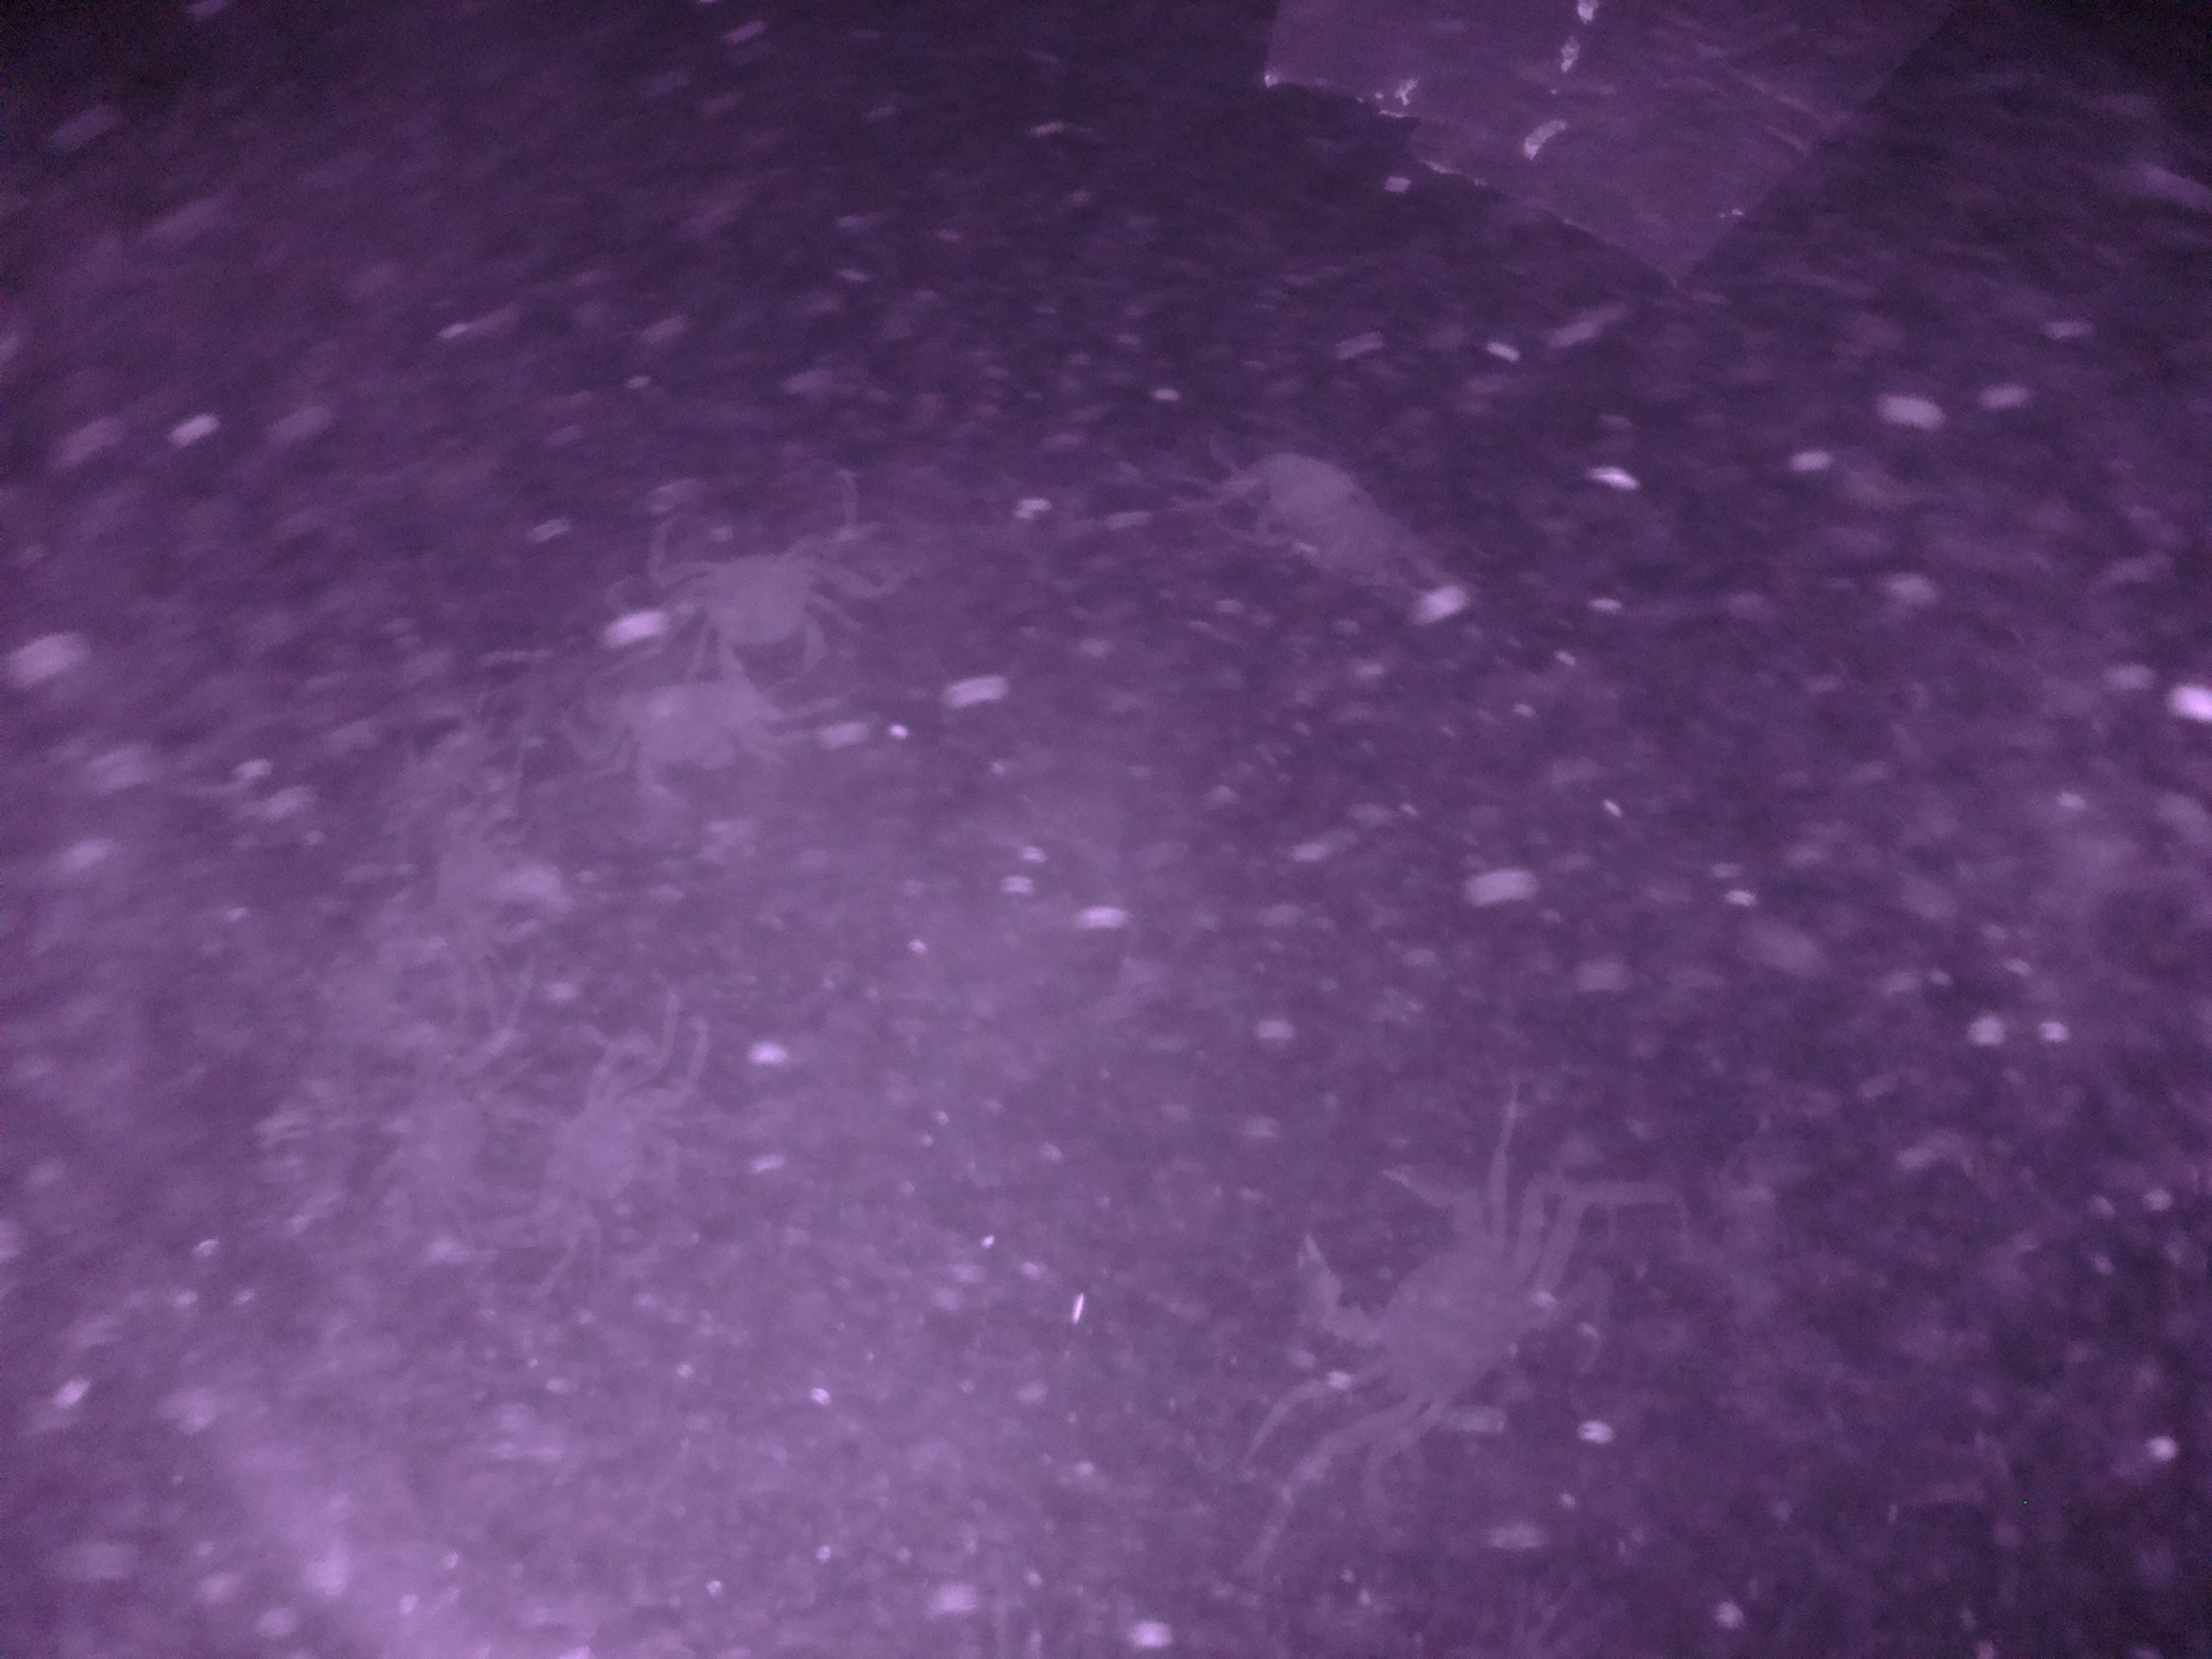Crab: (1291, 1121, 1575, 1467), (658, 532, 895, 720)
